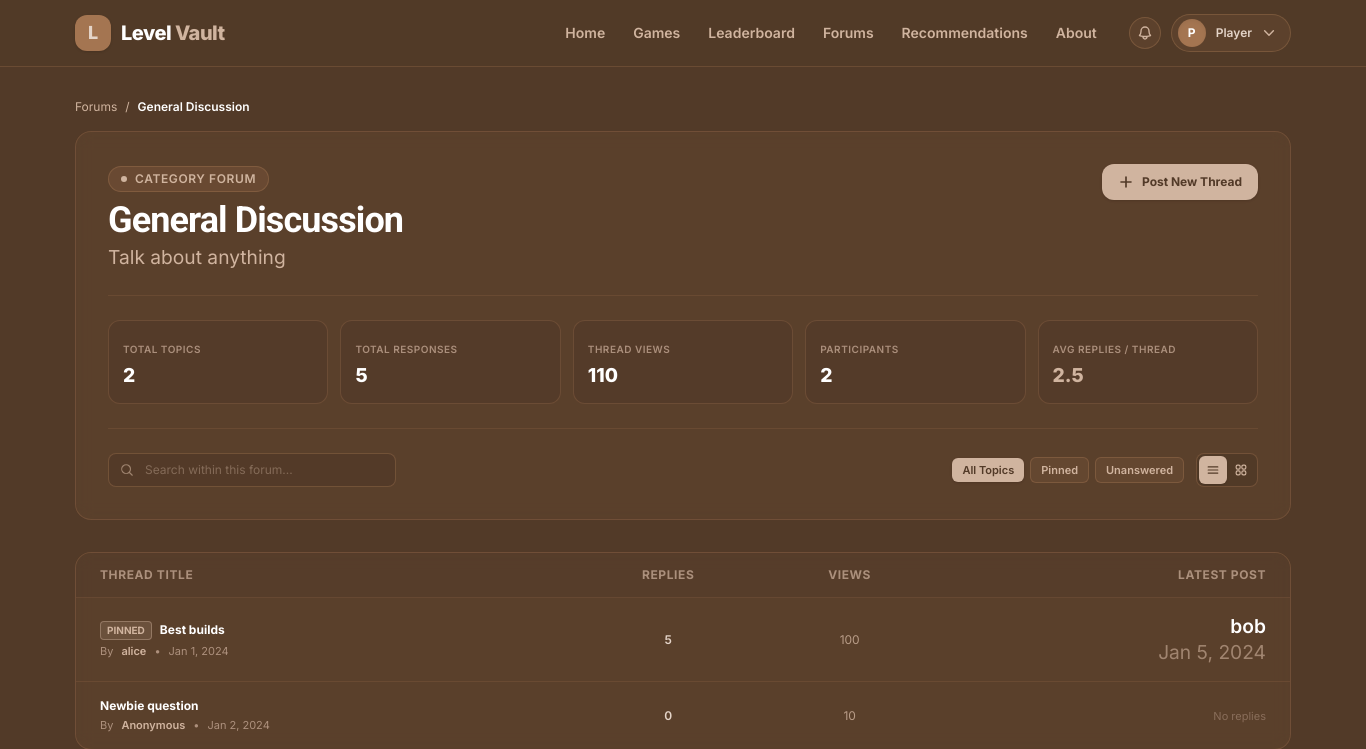
it: CategoryDetailPage › filters threads using the Pinned and Unanswered pills
Click the button "Pinned" at (1060, 470), box x1=1030 y1=457 x2=1089 y2=483
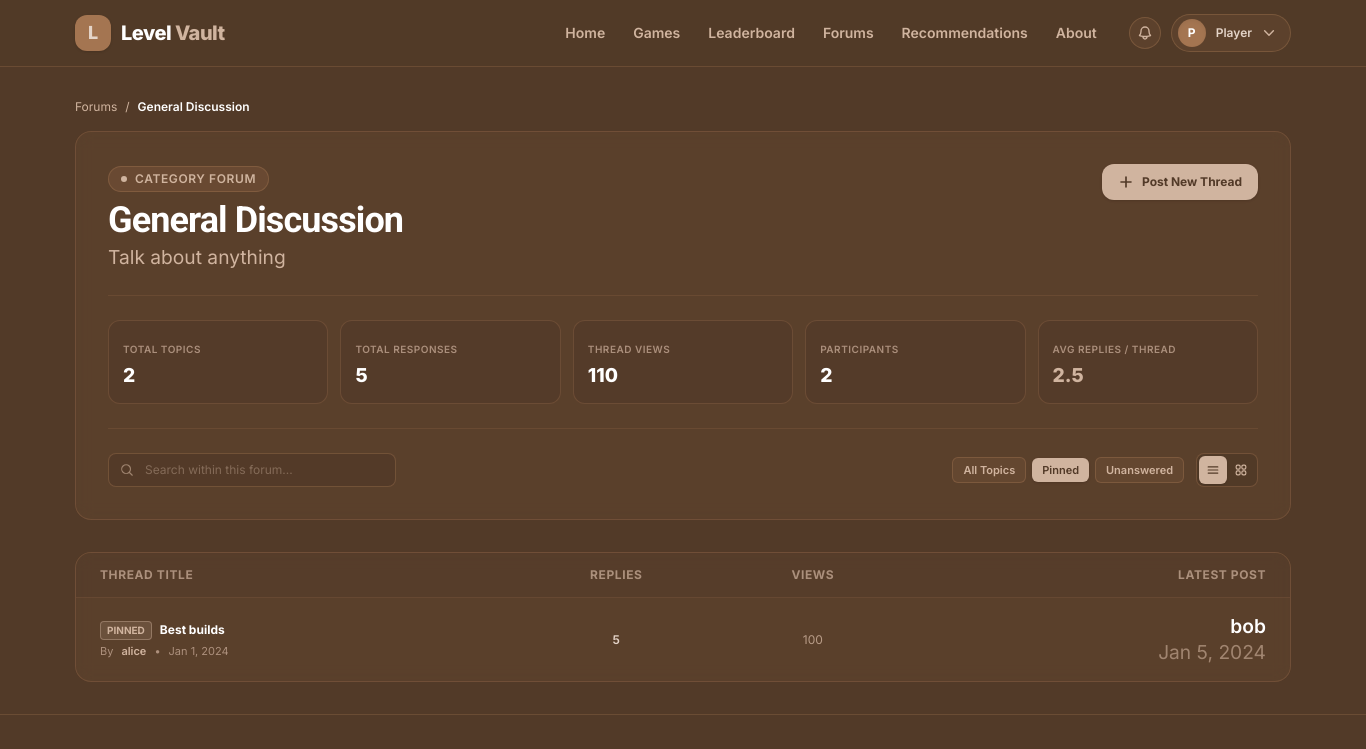
Expected: the link "Best builds" is shown, x1=160 y1=622 x2=225 y2=638
Result: the link "Newbie question" is gone
Click the button "Unanswered" at (1140, 470), box x1=1095 y1=457 x2=1184 y2=483
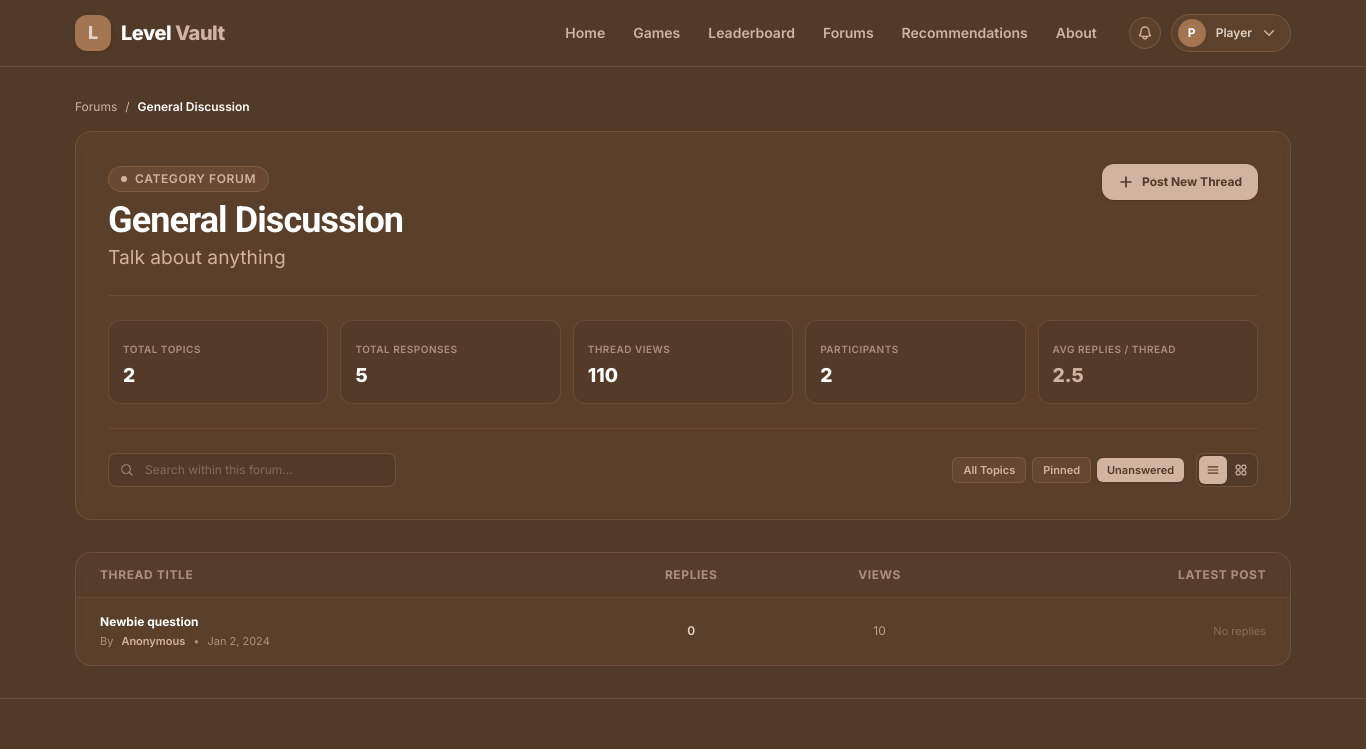
Result: the link "Newbie question" is shown at x1=100 y1=614 x2=198 y2=630
Result: the link "Best builds" is gone
Click the button "All Topics" at (989, 470), box x1=952 y1=457 x2=1026 y2=483
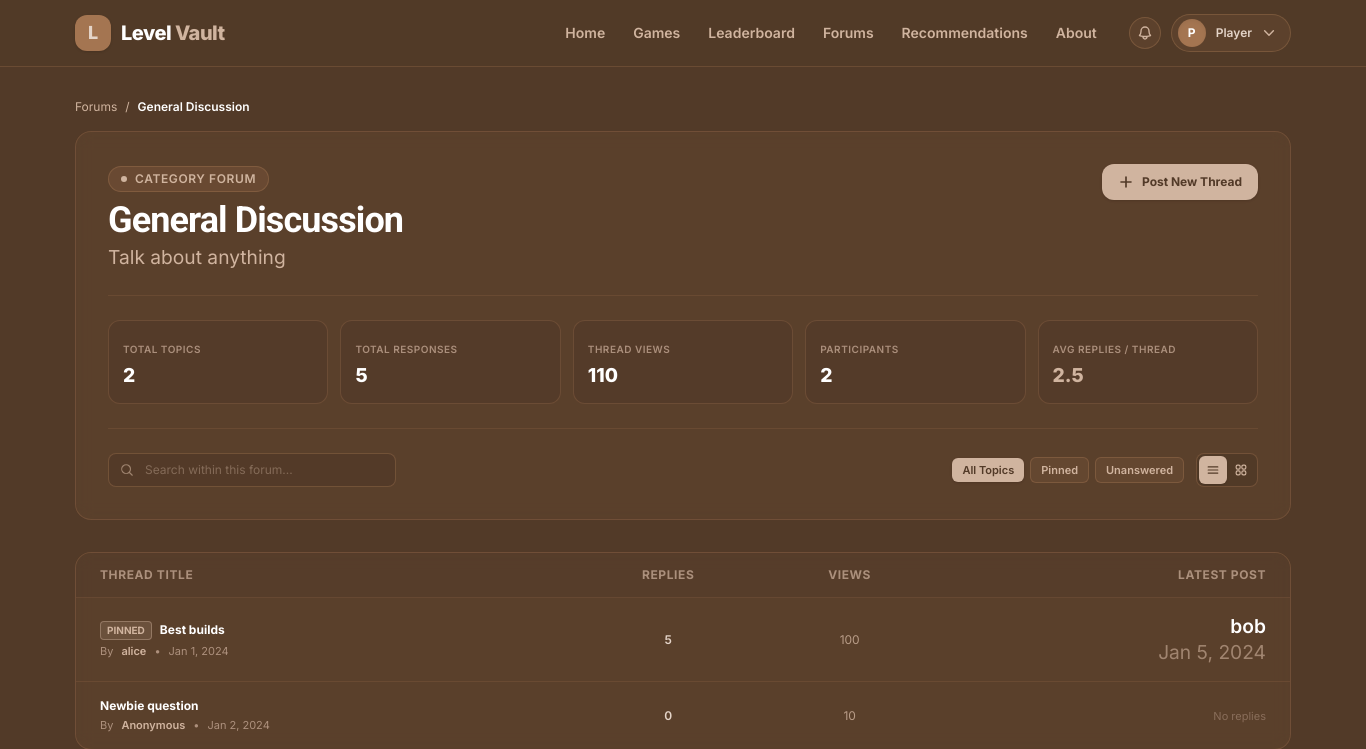
Result: the link "Newbie question" is shown at x1=100 y1=698 x2=198 y2=714
Result: the link "Best builds" is shown at x1=160 y1=622 x2=225 y2=638
